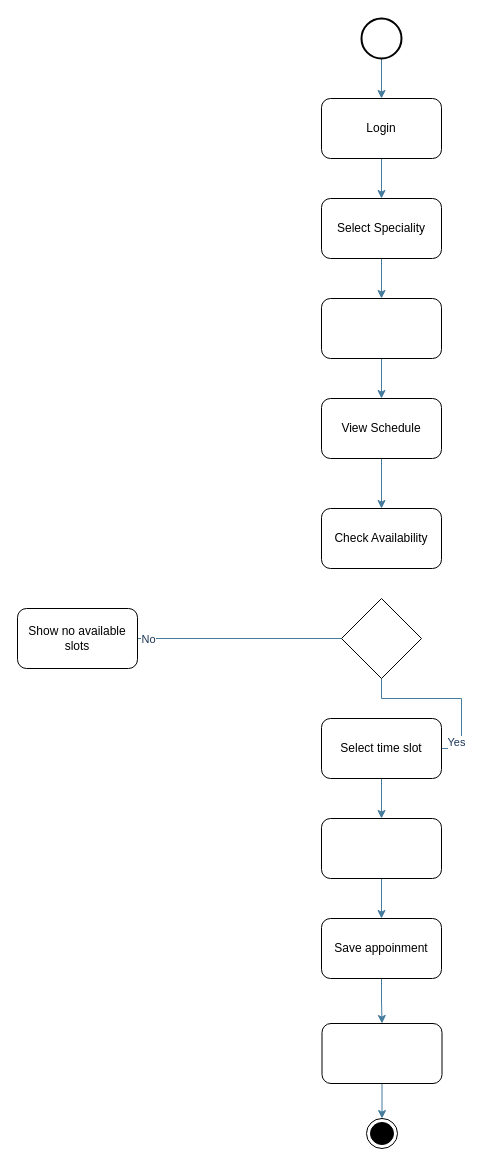
Image size: 482x1166. Some labels were removed from this diagram. Each missing label, with the centre of its shape:
Available?: (381,638)
Confirm Appointment: (381,848)
Search Doctor: (381,328)
Send confirmation: (381,1053)
